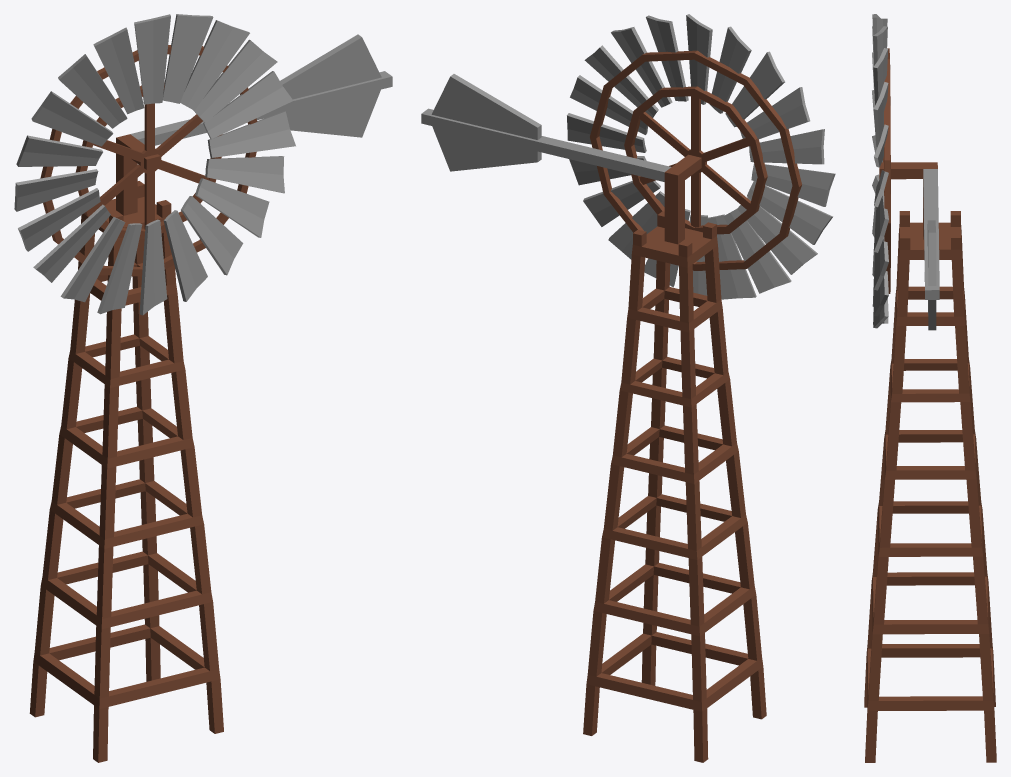
Rendered from Windmill_Blades.fbx.
3 renders of one model, left to right at view 1: azimuth 30°, elevation 25°; view 2: azimuth 150°, elevation 25°; view 3: azimuth 270°, elevation 25°, orthographic. The views are drawn at different scales.
Parts seen in each view (by area): view 1: Windmill_Blades; view 2: Windmill_Blades; view 3: Windmill_Blades.
Boxes of the visible parts, x1,y1,x2,y2 form: Windmill_Blades: (14, 14, 392, 762); Windmill_Blades: (421, 14, 835, 762); Windmill_Blades: (864, 14, 996, 762).
Bounding box in the file's own units: 1209 × 2082 × 355.
